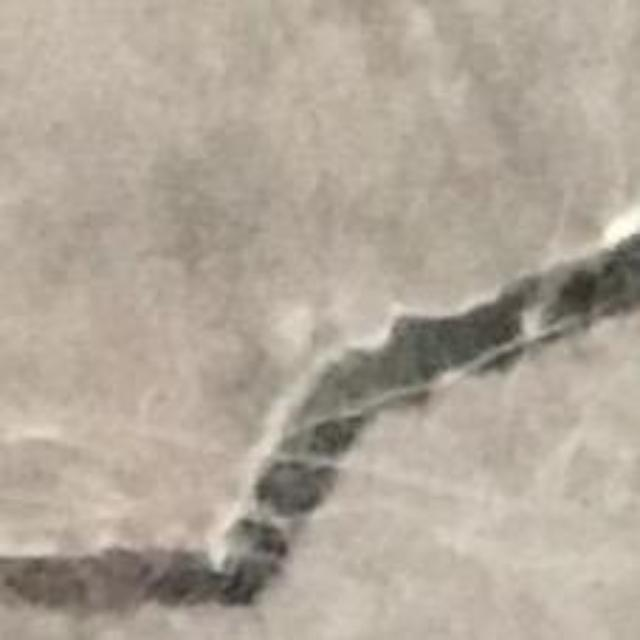crack: (0, 232, 639, 608)
